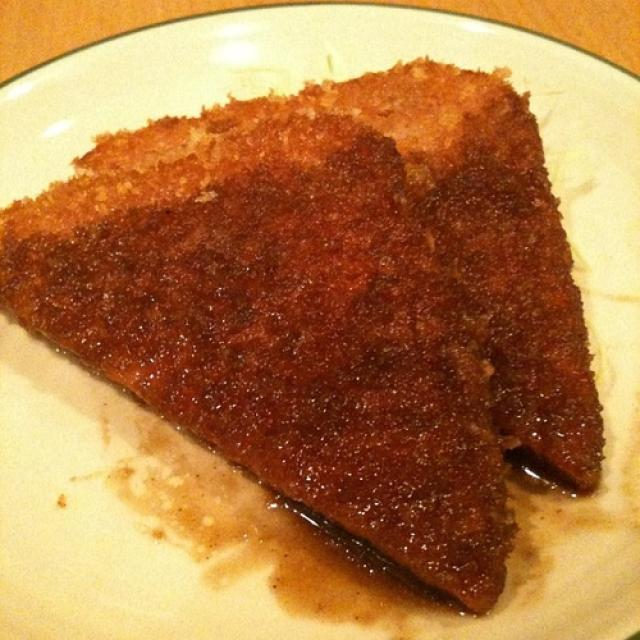炸货点心: (5, 28, 617, 626)
